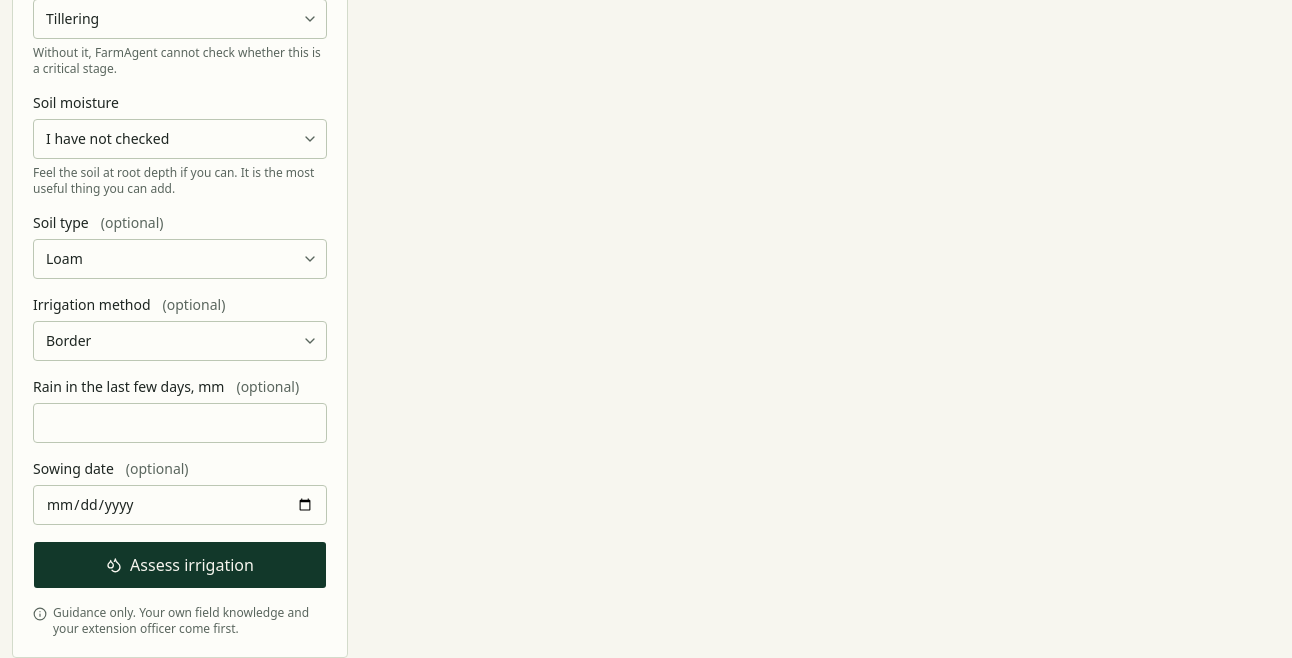
Scenario: IrrigationPage › gives no recommendation when the weather could not be retrieved
The image size is (1292, 658).
(page scrolled)
Click the button "Assess irrigation".
click(180, 565)  # box [33,541,327,589]
(page scrolled)
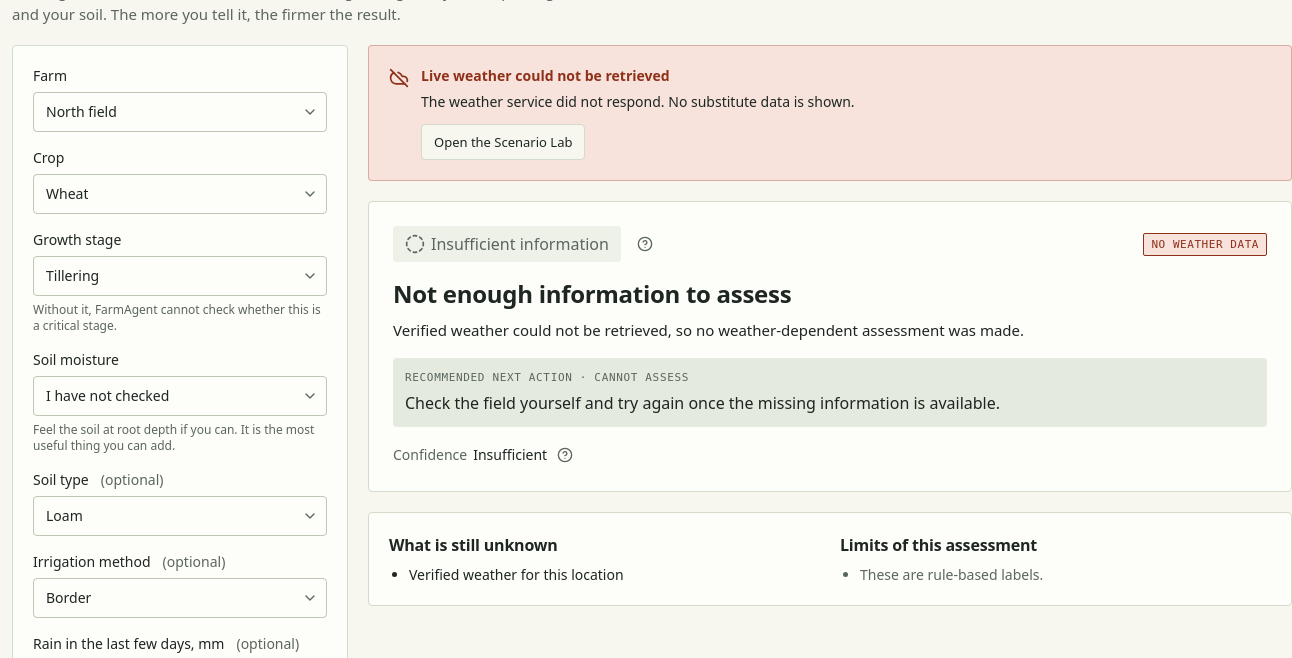
Expected: the element with test id "irrigation-result" is shown
Expected: the text "Insufficient information" is shown, [393,226,621,262]
Expected: the text "No weather data" is shown, [1143,232,1267,256]
